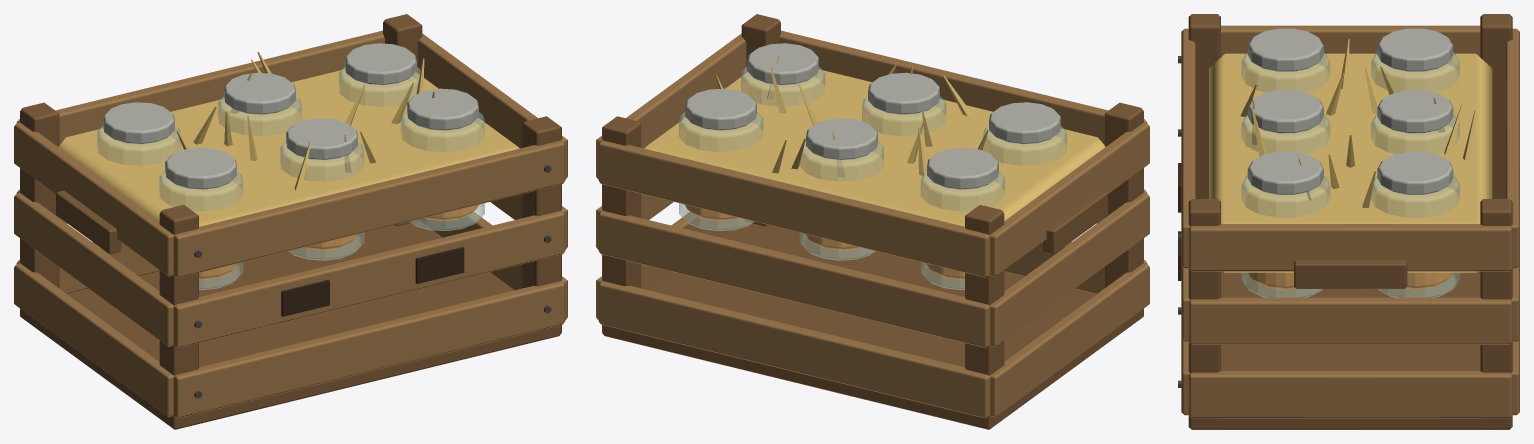
File: LootCrate.glb
3 views of the same model, side by side, from view 1: azimuth 30°, elevation 25°; view 2: azimuth 150°, elevation 25°; view 3: azimuth 270°, elevation 25° (orthographic). The views are drawn at different scales.
Parts seen in each view (by area): view 1: LootCrate.001; view 2: LootCrate.001; view 3: LootCrate.001.
Part boxes in pixels (x1=…): LootCrate.001: x1=14, y1=14, x2=567, y2=429; LootCrate.001: x1=596, y1=14, x2=1149, y2=429; LootCrate.001: x1=1178, y1=14, x2=1519, y2=429.
Bounding box in the file's own units: 0.622 × 0.3205 × 0.422.
